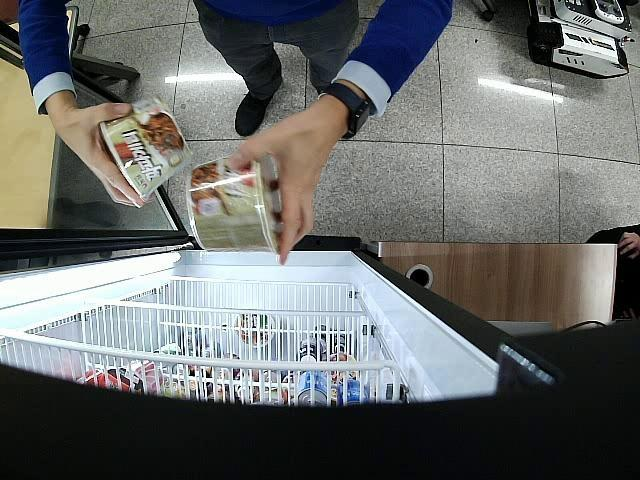03_chapagetti_L: (99, 96, 192, 202), (186, 153, 280, 255)
